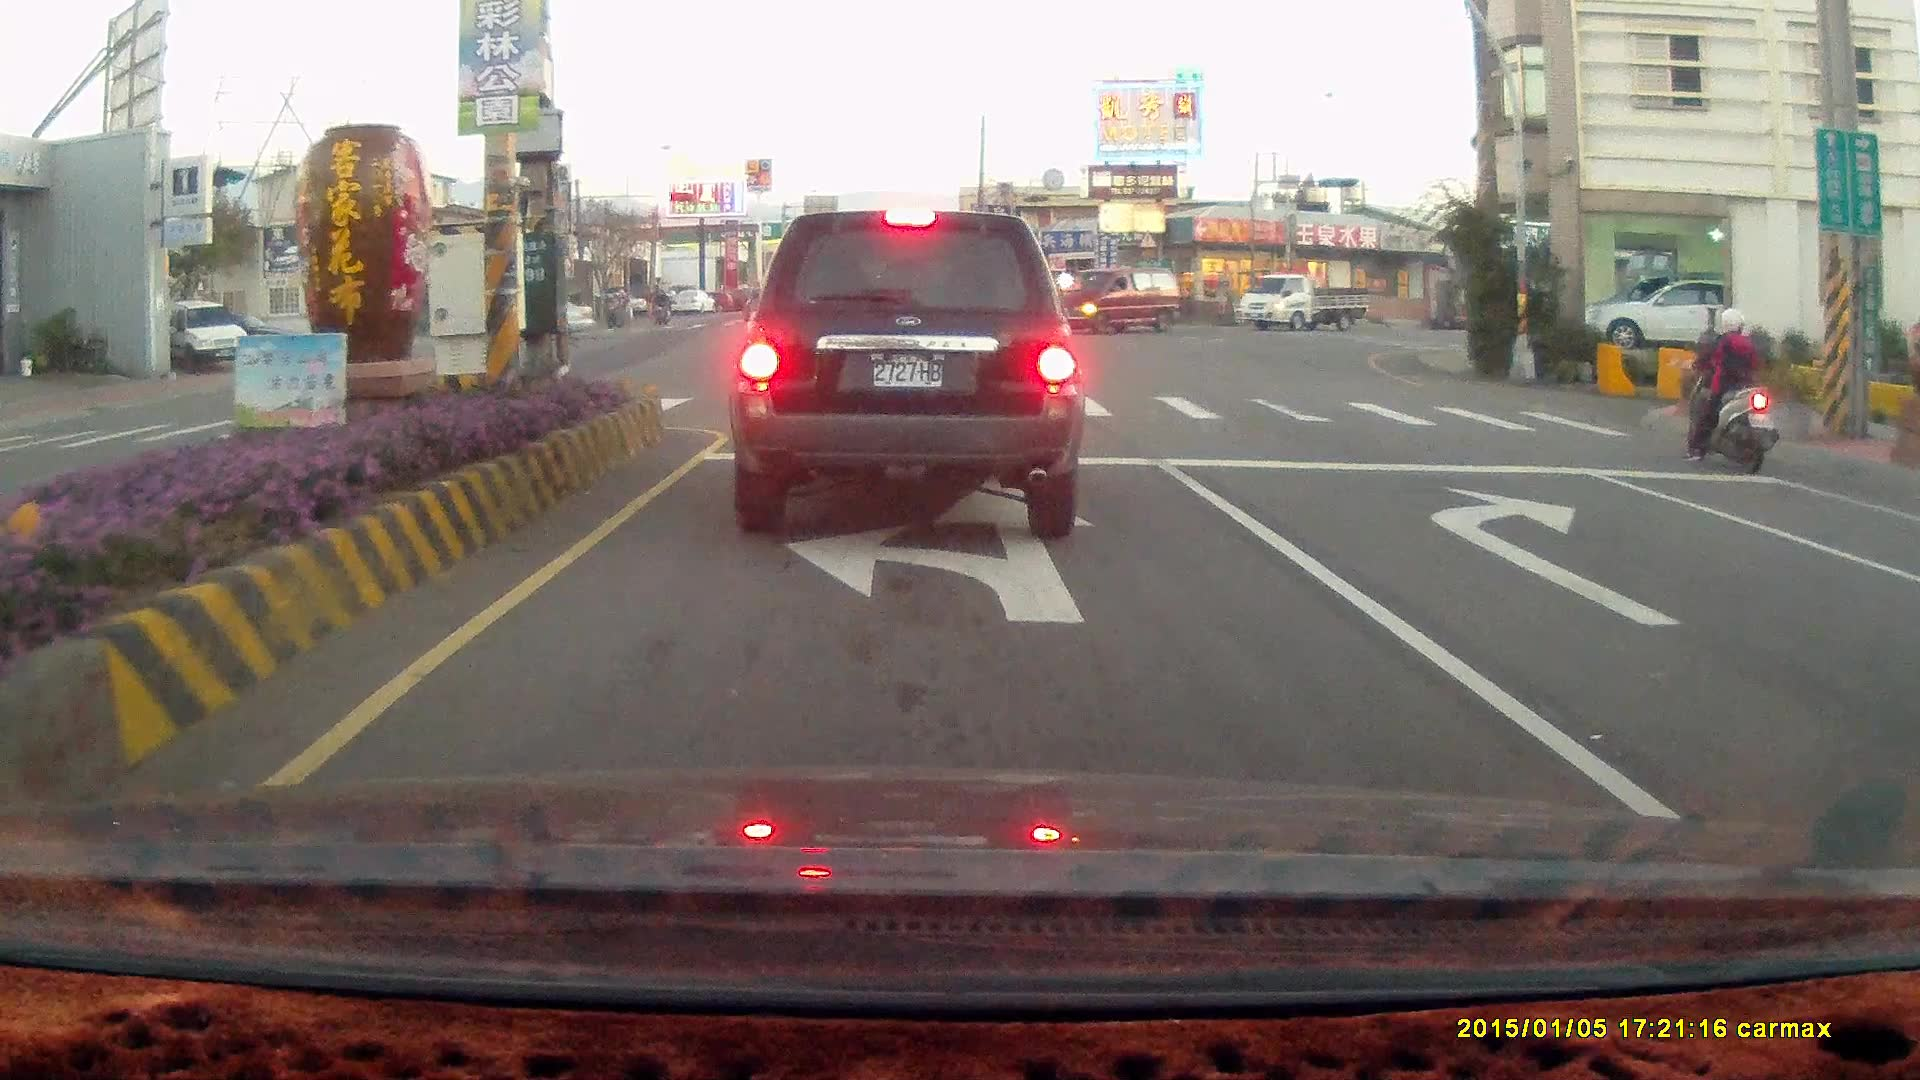rider: (1684, 308, 1780, 475), (605, 285, 633, 325), (653, 289, 674, 326)
vehicle: (727, 208, 1086, 539), (1572, 274, 1771, 351), (1590, 280, 1723, 349), (1050, 268, 1182, 336), (1238, 274, 1373, 338), (1896, 493, 1920, 836), (146, 297, 249, 375), (1883, 528, 1920, 690), (480, 289, 595, 338), (519, 296, 597, 338)
